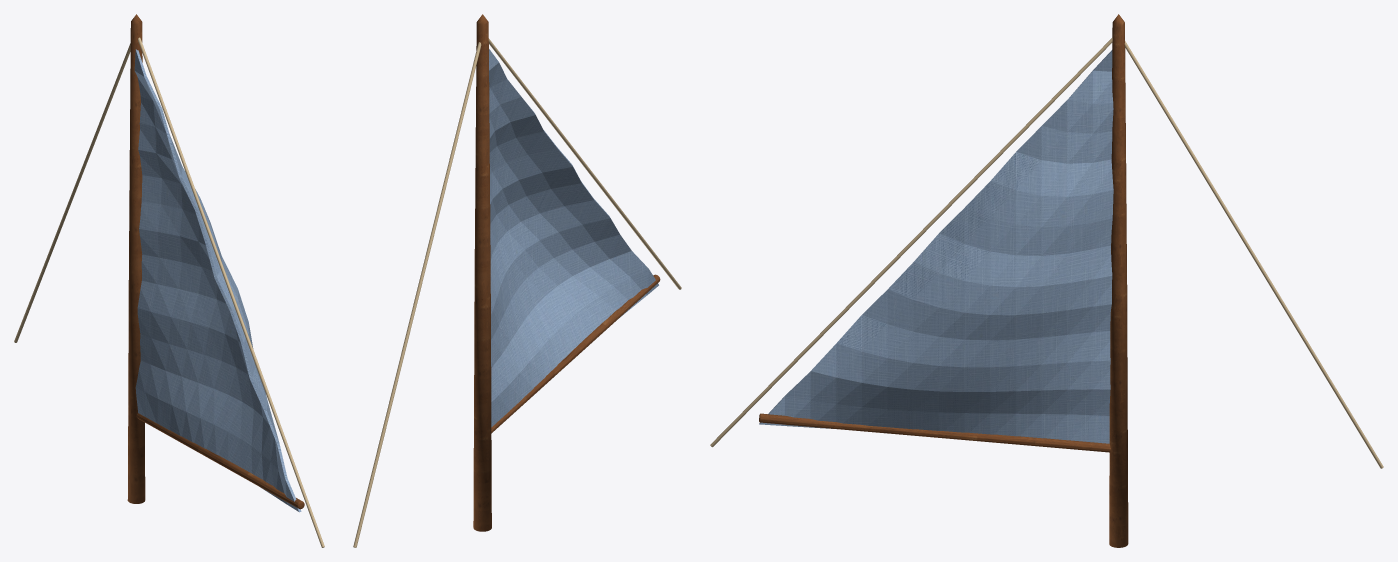
File: boat_mast.glb
3 views of the same model, side by side, from view 1: azimuth 30°, elevation 25°; view 2: azimuth 150°, elevation 25°; view 3: azimuth 270°, elevation 25° (orthographic). The views are drawn at different scales.
Visible parts, largest first — view 1: mastro; view 2: mastro; view 3: mastro.
Boxes of the visible parts, <box> form: mastro: <box>14,14,324,547</box>; mastro: <box>353,14,681,547</box>; mastro: <box>710,14,1383,547</box>.
Bounding box in the file's own units: 0.2395 × 2.44 × 2.81.
3 materials, 2 textured.
